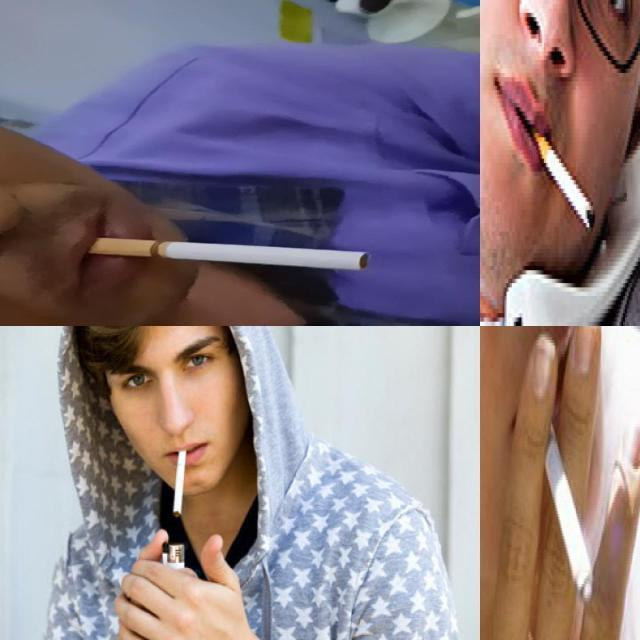cigarette: (537, 398, 593, 600), (92, 236, 373, 270), (532, 130, 595, 232), (172, 449, 186, 517)
